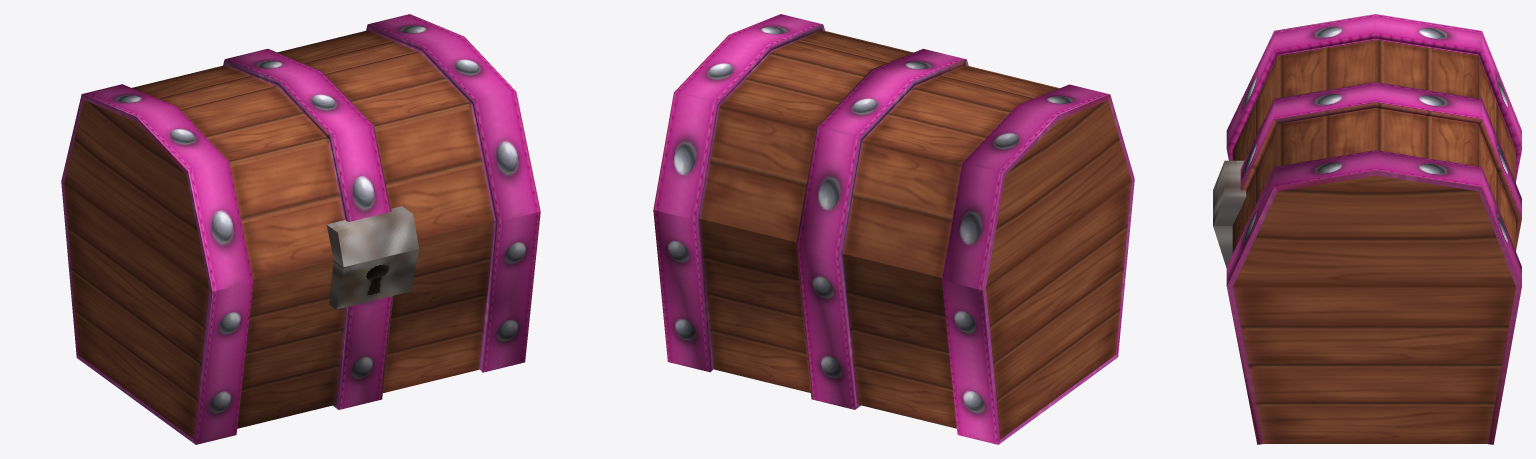
Rendered from SPECIAL.glb.
3 renders of one model, left to right at view 1: azimuth 30°, elevation 25°; view 2: azimuth 150°, elevation 25°; view 3: azimuth 270°, elevation 25°, orthographic. The views are drawn at different scales.
Parts seen in each view (by area): view 1: DrawCall_18; view 2: DrawCall_18; view 3: DrawCall_18.
Part boxes in pixels (x1,y1,x2,y2): DrawCall_18: (61, 14, 540, 444); DrawCall_18: (653, 14, 1134, 444); DrawCall_18: (1213, 14, 1521, 444).
Size of the model in its own units: 3.97 by 2.1 by 2.11.
Materials: 3 (2 with a texture image).
